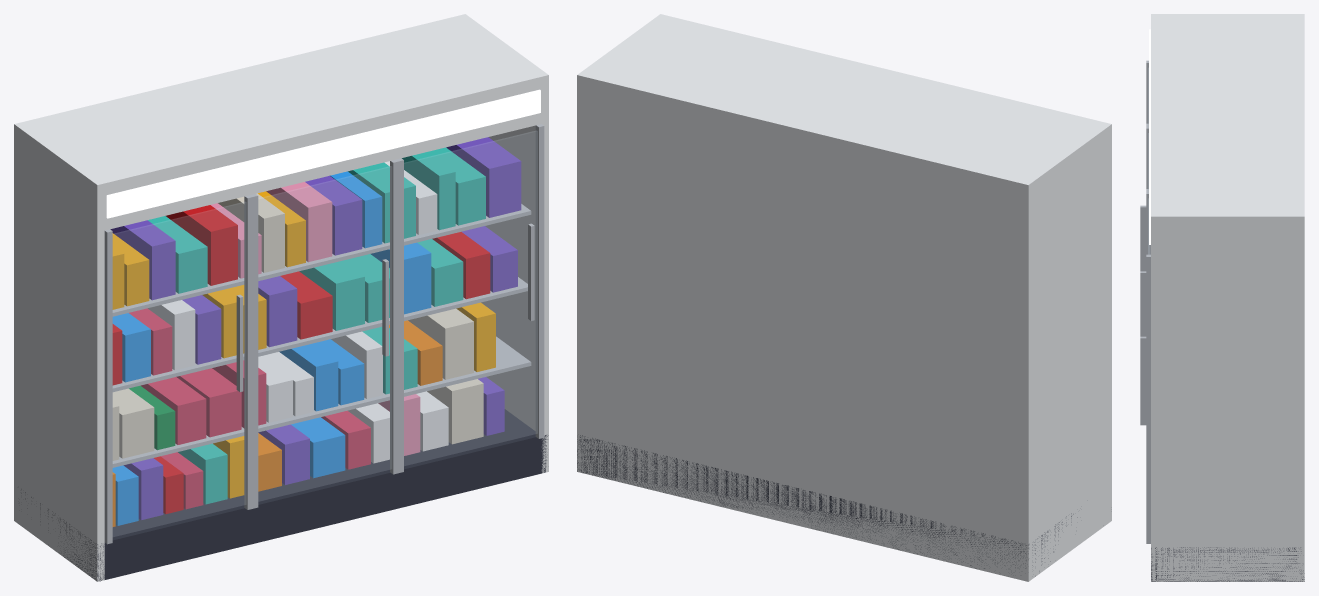
Rendered from mal-015.glb.
The picture shows the model from 3 angles, left to right: view 1: azimuth 30°, elevation 25°; view 2: azimuth 150°, elevation 25°; view 3: azimuth 270°, elevation 25°; orthographic projection. The views are drawn at different scales.
Visible parts, largest first — view 1: glass_clear, white, stainless, dark_steel, brand_home, accent_teal, plastic_blue, lamp_diffuser, brand_fashion, paper, accent_red, accent_amber (+3 smaller); view 2: white, dark_steel; view 3: white, stainless, dark_steel, lamp_diffuser.
Boxes of the visible parts, box(x1,y1,x2,y2) form: glass_clear: box(113, 131, 537, 536); white: box(14, 14, 548, 581); stainless: box(104, 124, 544, 544); dark_steel: box(21, 409, 548, 581); brand_home: box(110, 137, 521, 520); accent_teal: box(148, 147, 485, 504); plastic_blue: box(112, 171, 431, 525); lamp_diffuser: box(106, 89, 540, 218); brand_fashion: box(129, 308, 370, 509); paper: box(112, 193, 483, 460); accent_red: box(112, 205, 490, 514); accent_amber: box(112, 191, 495, 498); white: box(577, 14, 1111, 581); dark_steel: box(577, 435, 1077, 576); white: box(1151, 14, 1304, 581); stainless: box(1140, 60, 1150, 543); dark_steel: box(1151, 547, 1304, 581); lamp_diffuser: box(1149, 29, 1150, 244).
Size of the model in its own units: 2.5 by 2.1 by 0.855.
